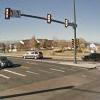Traffic light: (3, 5, 14, 26)
